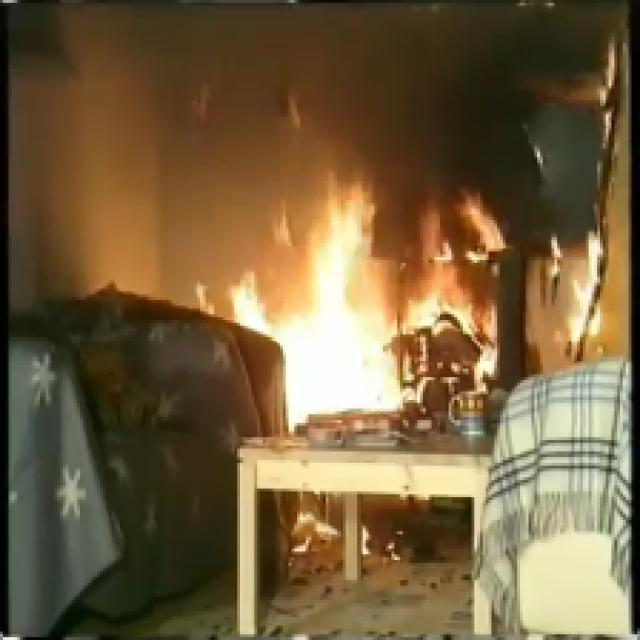Fire: (186, 152, 409, 424), (410, 188, 514, 332)
